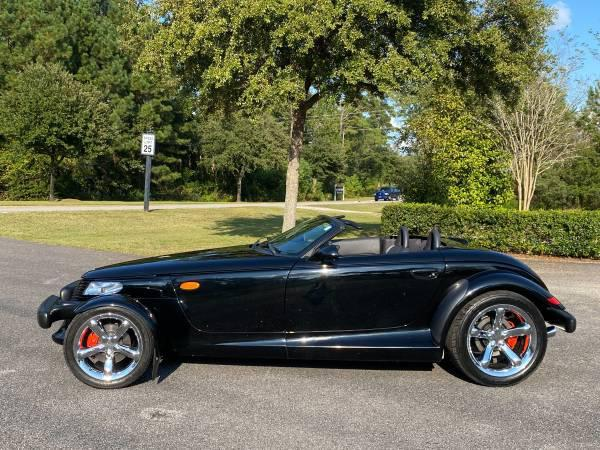Front_Bumper: (37, 276, 81, 329)
Front_Fender: (121, 266, 293, 353)
Front_Left_Door: (286, 255, 450, 356)
Hood: (79, 242, 292, 278)
Left_Headlight: (76, 278, 123, 303)
Rear_Fender: (427, 252, 580, 353)
Wheel: (456, 289, 553, 387), (63, 303, 158, 389)
